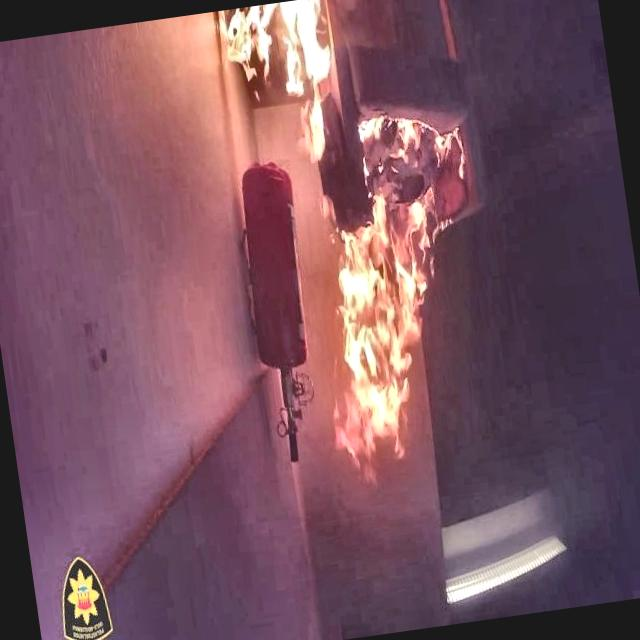fire: (208, 0, 514, 471)
